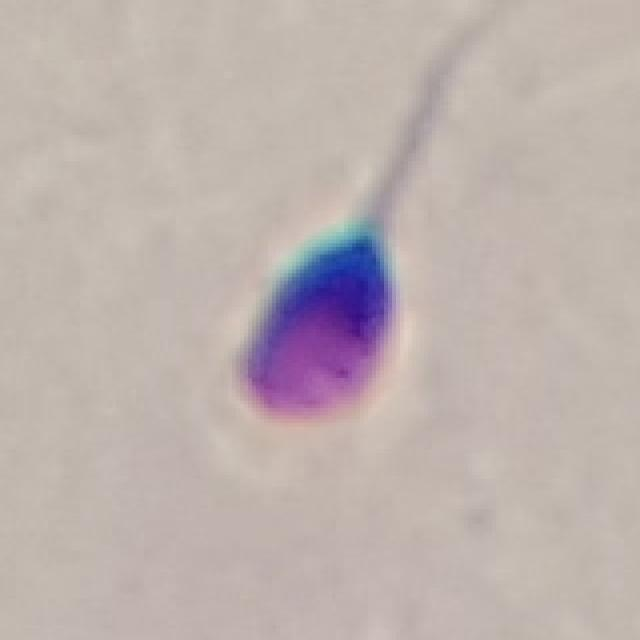normal sperm: (242, 140, 420, 427)
